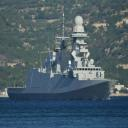Fragata: (8, 13, 121, 104)
